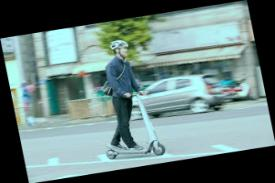helmet: (84, 34, 168, 165)
